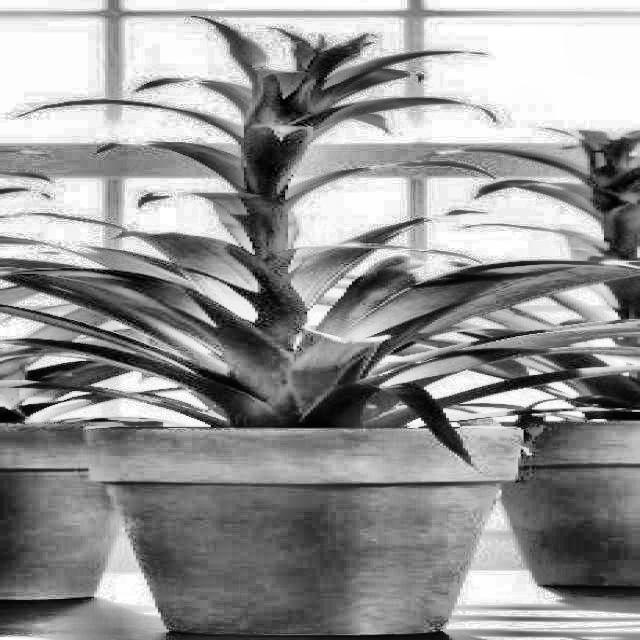plants: (68, 31, 513, 636)
